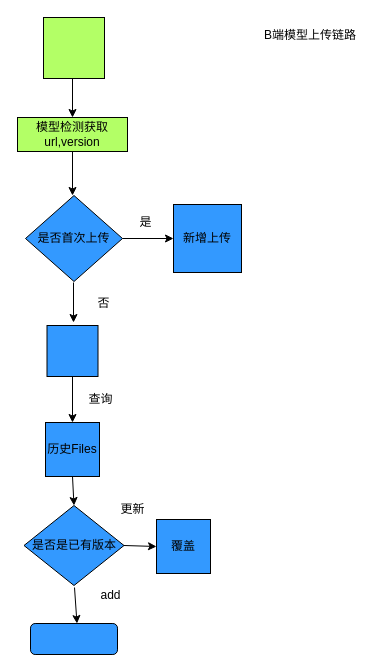
This 380x672 diagram has some shape labels left out. Here are the shapes that lost their labels. From the top down, the box of each, then its label:
(42, 16, 104, 78): 模型文件上传
(46, 324, 98, 376): modelId
(30, 622, 118, 654): 追加Files
